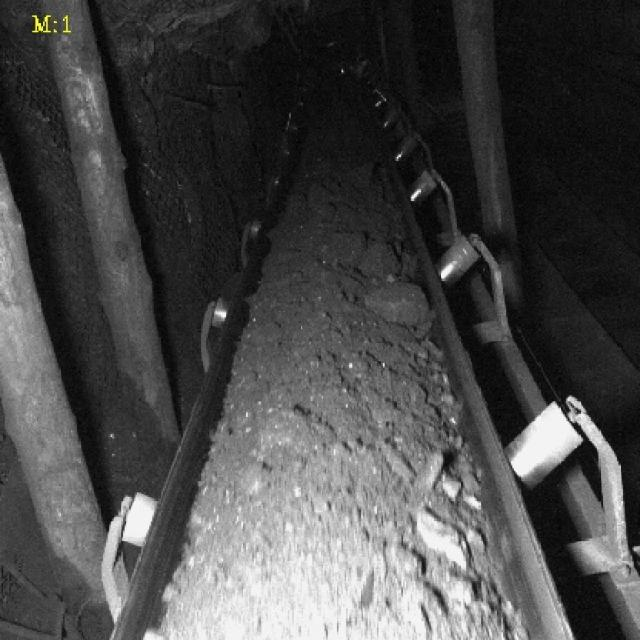large_sized_coal: (364, 280, 428, 323)
